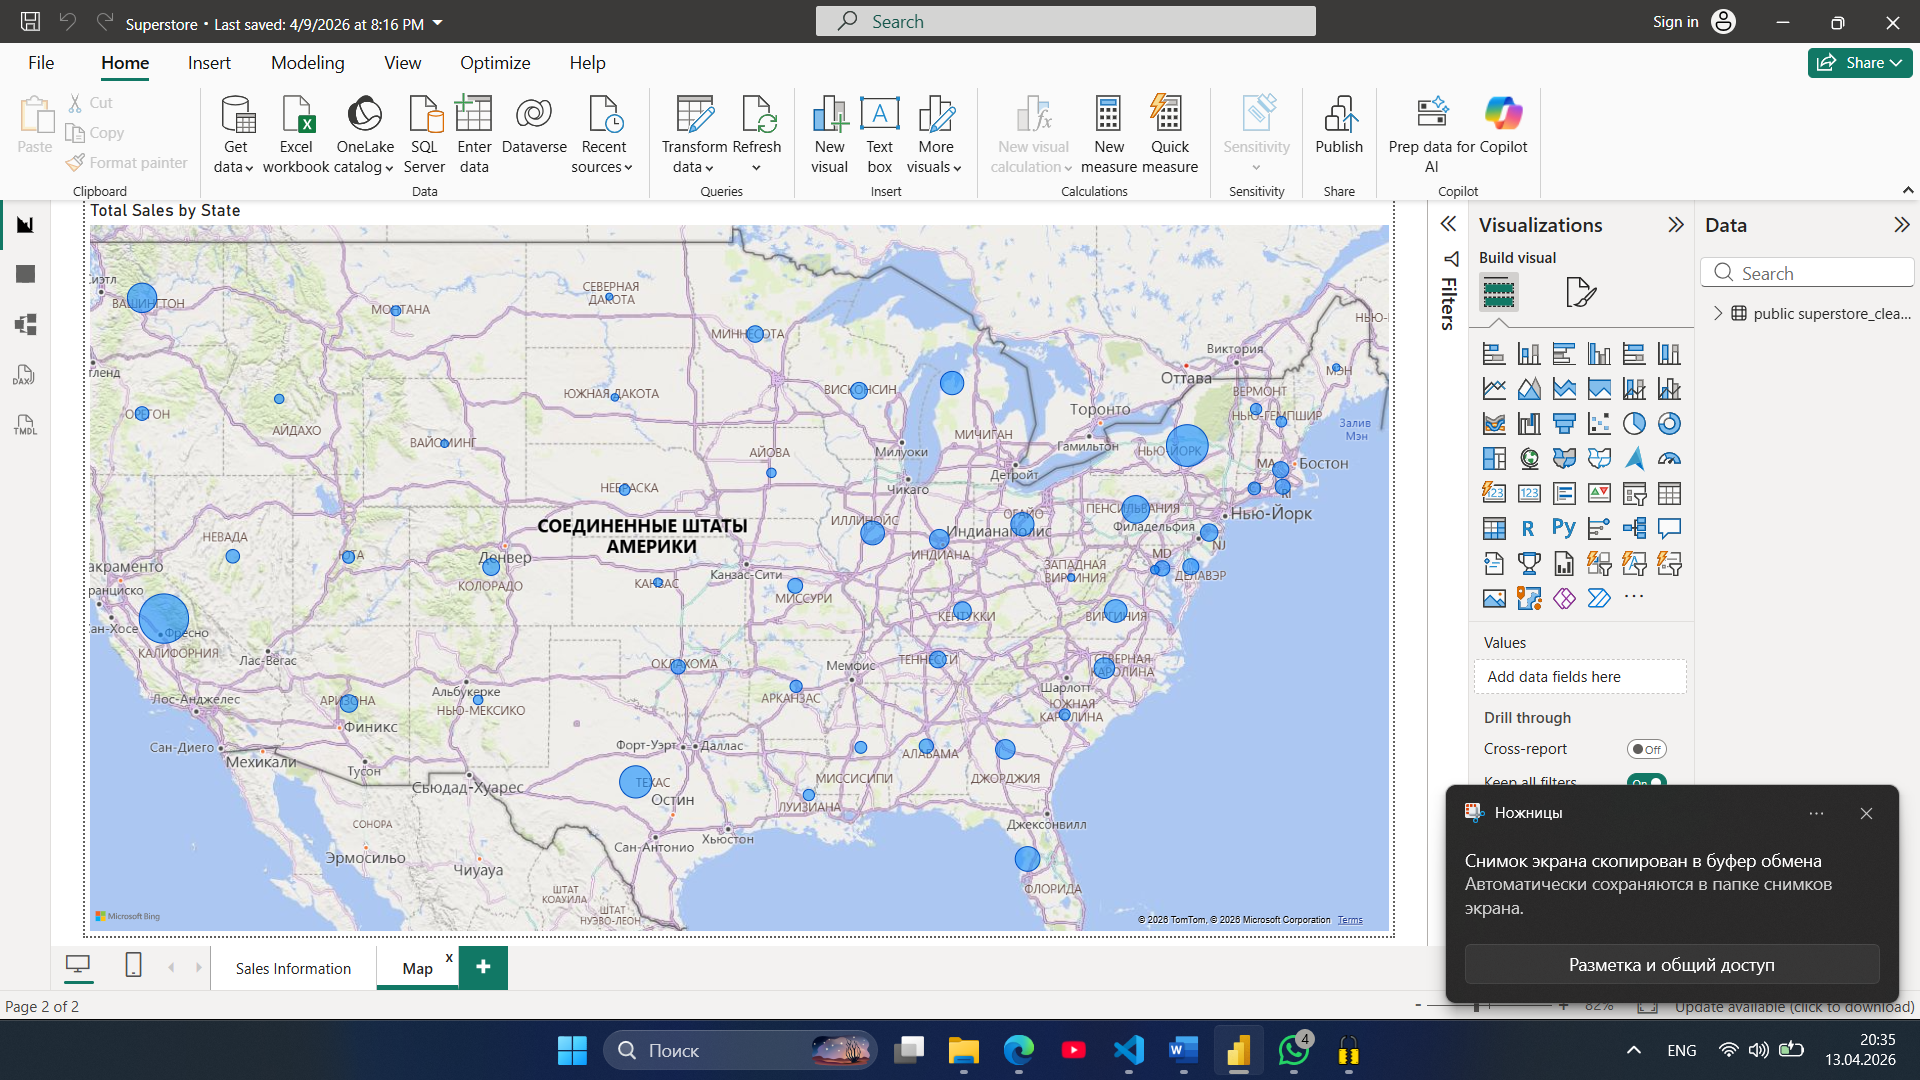

This screenshot's page, from the dashboard's own definition file:
{"tool":"powerbi","page":{"name":"Map","canvas":[1280,720],"ordinal":1},"visuals":[{"type":"map","fields":{"Category":["superstore_cleaned.State"],"Size":["superstore_cleaned.Total Sales"]},"box":[0,0,1280.3,720.4],"z":0}]}

Visuals, with their boxes on the page's 1280x720 design canvas (x1, y1, x2, y2). These are canvas units, not pixel positions in the 1920x1080 screenshot, which may show the page scaled, cropped or inside an application window:
map - superstore_cleaned.State x superstore_cleaned.Total Sales: (left=0, top=0, right=1280, bottom=720)
